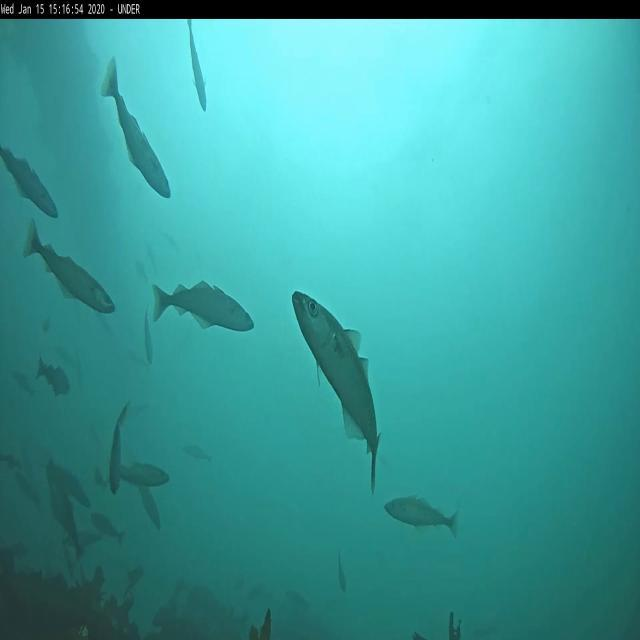fish: (293, 291, 381, 491), (105, 58, 170, 197), (25, 222, 115, 314), (151, 283, 256, 332), (3, 146, 58, 215), (384, 491, 458, 537), (48, 468, 84, 558), (108, 401, 130, 494), (188, 20, 207, 110), (52, 462, 89, 504), (36, 359, 70, 396), (120, 465, 170, 487), (138, 487, 162, 532), (91, 514, 125, 544), (62, 530, 106, 547), (12, 371, 38, 396), (144, 309, 154, 364), (182, 444, 211, 462), (336, 554, 346, 594)
